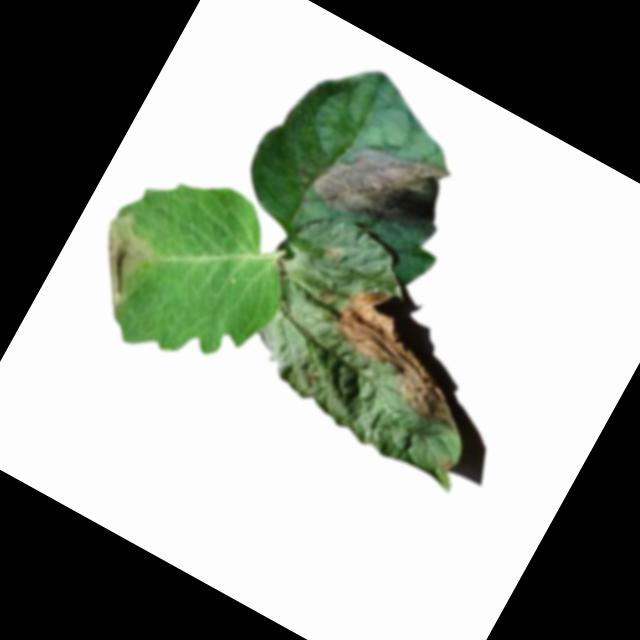Late_blight: (311, 274, 495, 434), (300, 112, 463, 257), (71, 204, 170, 315), (436, 451, 456, 472)
